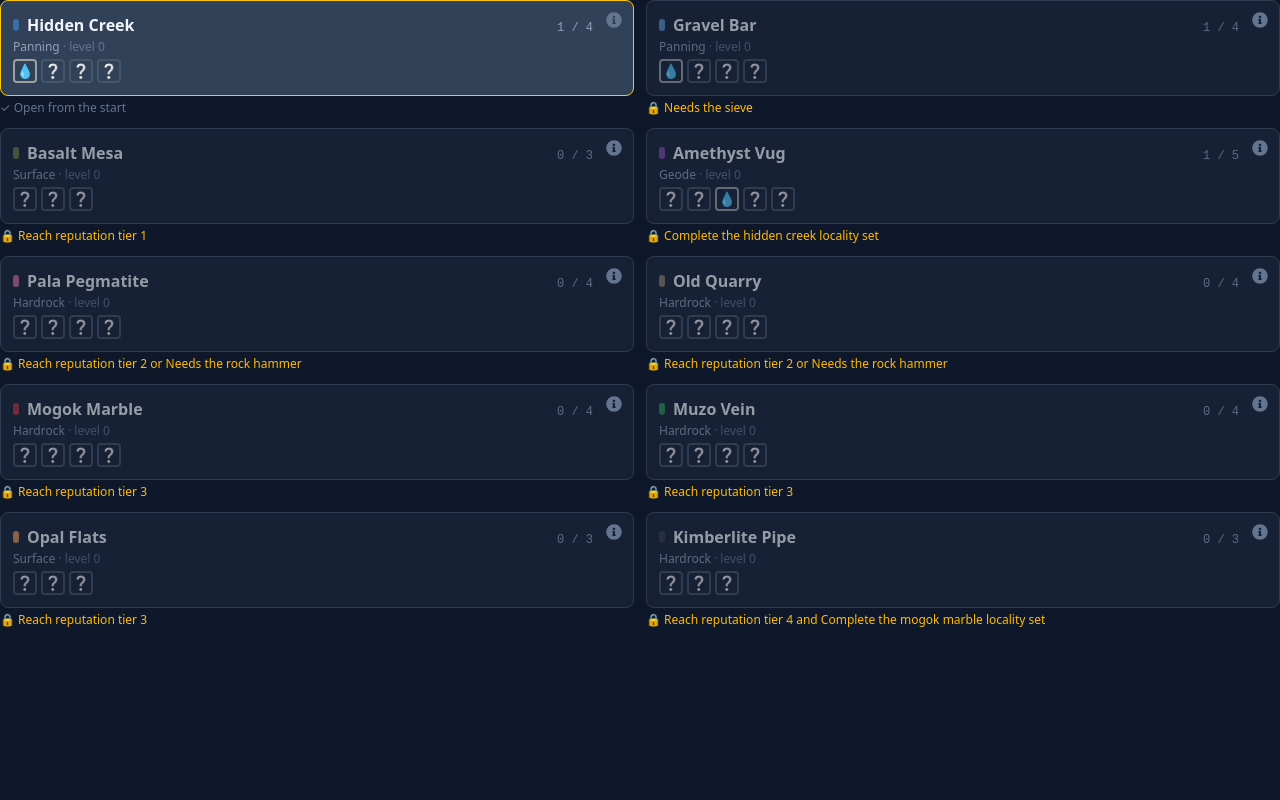
Test case: LocalityMap › opens the field guide from the info button without selecting
The image size is (1280, 800).
Click the button named "Hidden Creek field guide".
click(614, 20)  # box [602,8,626,32]
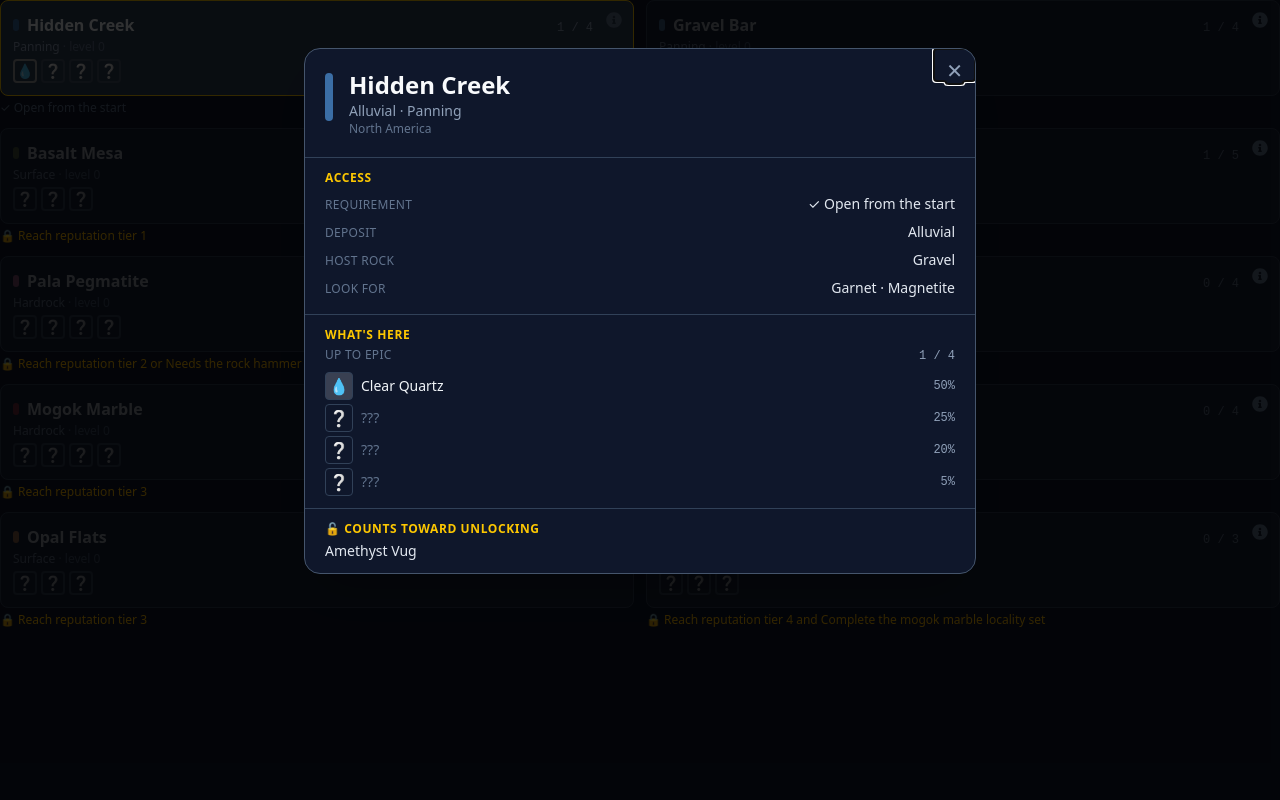
Now the dialog is shown, box [304,48,976,574]
